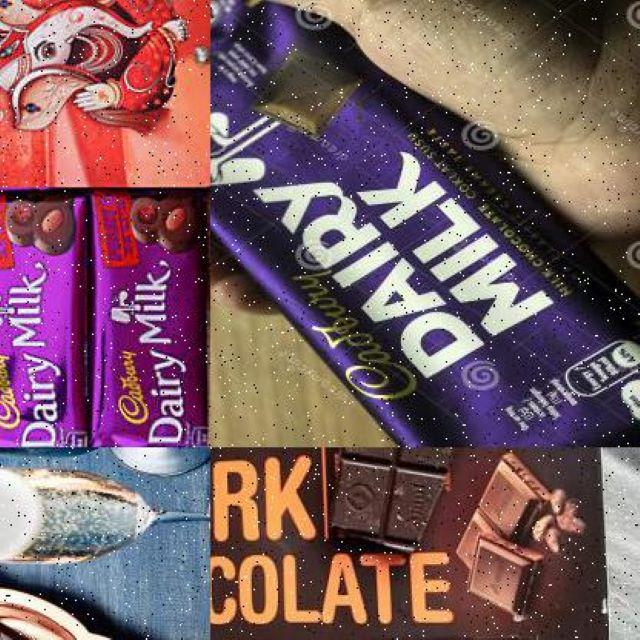cadbury_chocolate: (177, 15, 640, 437), (95, 195, 207, 448), (2, 200, 100, 460)
